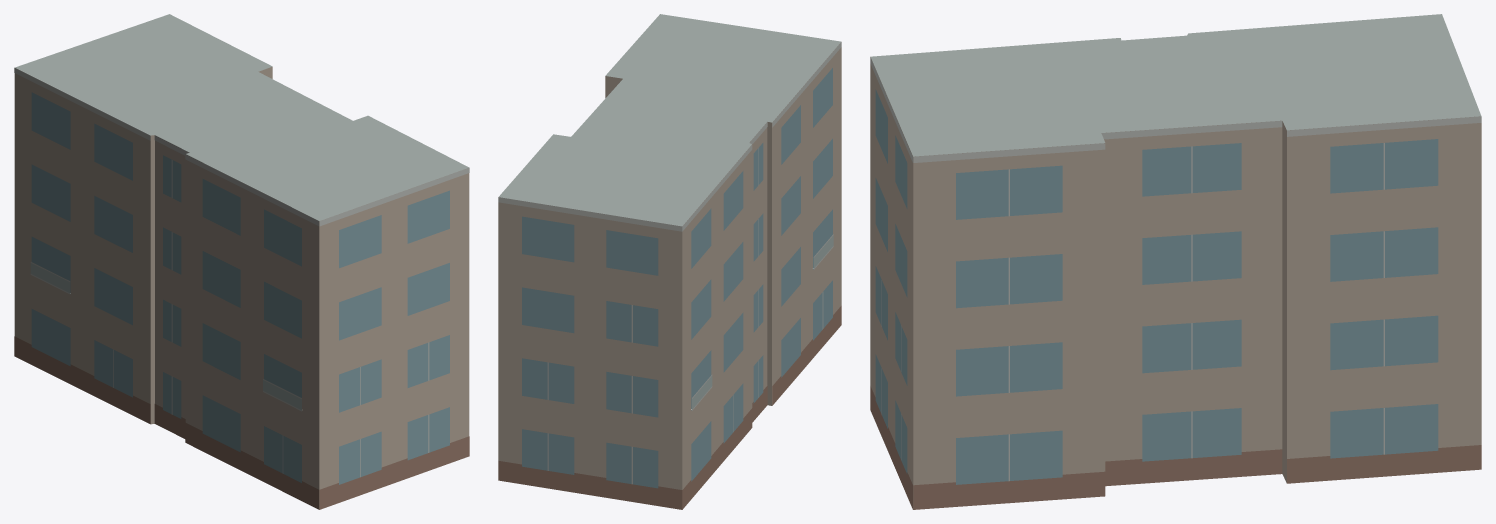
The model's file is survey-upis-32929855.glb.
3 renders of one model, left to right at view 1: azimuth 30°, elevation 25°; view 2: azimuth 150°, elevation 25°; view 3: azimuth 270°, elevation 25°, orthographic. The views are drawn at different scales.
Visible parts, largest first — view 1: survey-upis-32929855.tmp; view 2: survey-upis-32929855.tmp; view 3: survey-upis-32929855.tmp.
Boxes of the visible parts, left/top/right/bottom form: survey-upis-32929855.tmp: left=14, top=14, right=469, bottom=509; survey-upis-32929855.tmp: left=498, top=14, right=841, bottom=509; survey-upis-32929855.tmp: left=870, top=14, right=1481, bottom=509.
Size of the model in its own units: 11.35 by 13.1 by 20.55.
